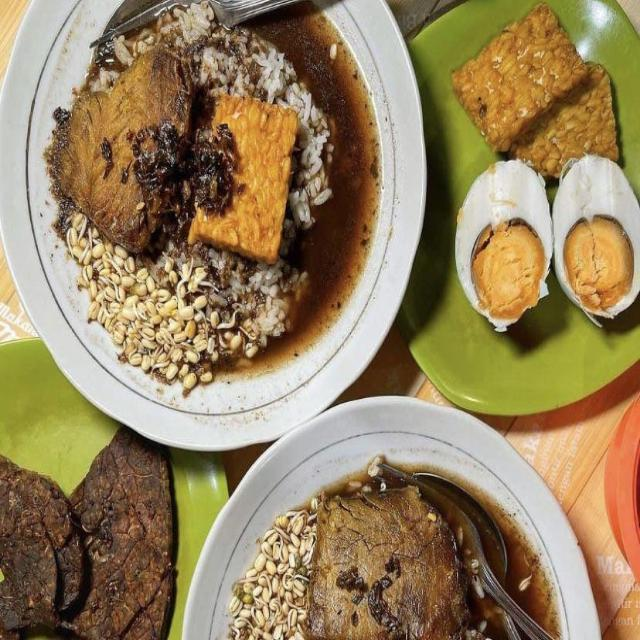Rawon: (49, 19, 369, 364), (244, 476, 546, 640)
